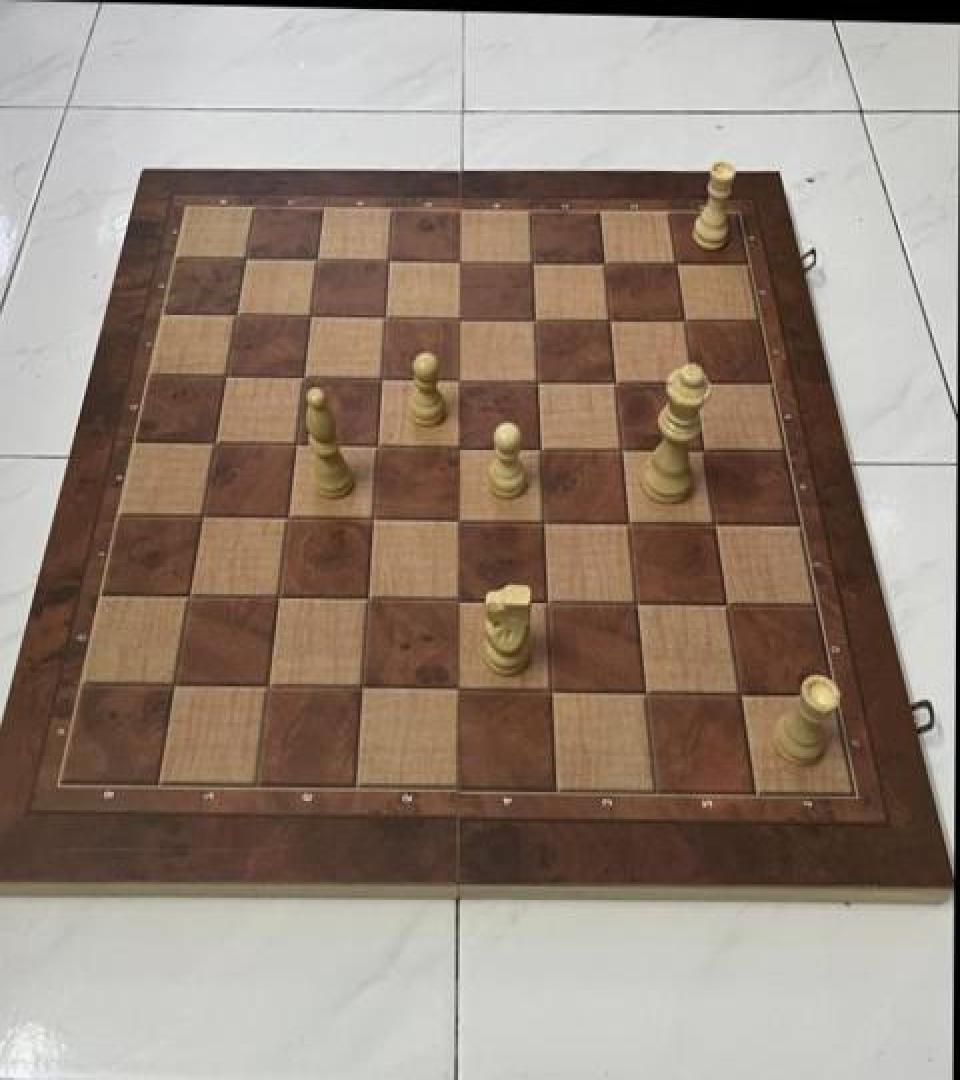xcorner: (358, 499, 392, 538), (442, 669, 476, 708), (230, 240, 264, 278), (302, 241, 336, 279), (374, 241, 408, 279), (446, 242, 480, 280), (518, 243, 552, 281), (590, 244, 624, 282), (662, 244, 696, 282), (221, 296, 255, 334), (296, 297, 330, 335), (371, 298, 405, 336), (445, 300, 479, 338), (520, 300, 554, 338), (595, 300, 629, 338), (670, 302, 704, 340), (211, 358, 245, 396), (289, 359, 323, 397), (367, 359, 401, 397), (445, 360, 479, 398), (523, 361, 557, 399), (601, 362, 635, 400), (679, 364, 713, 402), (199, 424, 233, 462), (281, 426, 315, 464), (363, 426, 397, 464), (444, 428, 478, 466), (526, 429, 560, 467), (607, 429, 641, 467), (689, 430, 723, 468), (187, 498, 221, 536), (273, 498, 307, 536), (444, 501, 478, 539), (529, 502, 563, 540), (614, 503, 648, 541), (700, 503, 734, 541), (174, 578, 208, 616), (264, 580, 298, 618), (353, 580, 387, 618), (443, 580, 477, 618), (532, 582, 566, 620), (622, 583, 656, 621), (711, 584, 745, 622), (159, 667, 193, 705), (254, 668, 288, 706), (348, 668, 382, 706), (536, 670, 570, 708), (630, 672, 664, 710), (724, 673, 758, 711)
